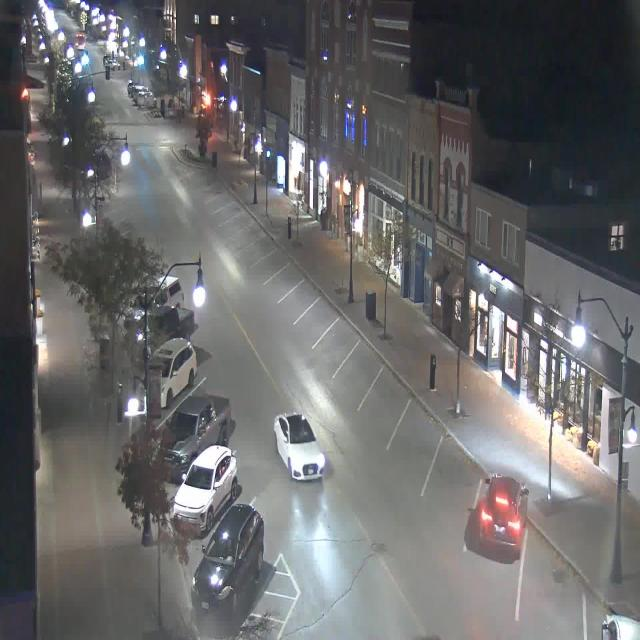available: (523, 529, 587, 632), (434, 432, 488, 503), (395, 391, 448, 463), (155, 357, 217, 413), (368, 358, 415, 421), (345, 332, 386, 388), (322, 311, 359, 358), (304, 292, 342, 334), (287, 270, 323, 308), (259, 237, 293, 276), (278, 255, 308, 292)
occupied: (191, 501, 264, 613), (156, 394, 231, 484), (172, 442, 238, 536), (474, 472, 529, 558), (144, 336, 198, 409), (123, 270, 188, 325), (133, 299, 200, 352), (580, 586, 640, 640)
